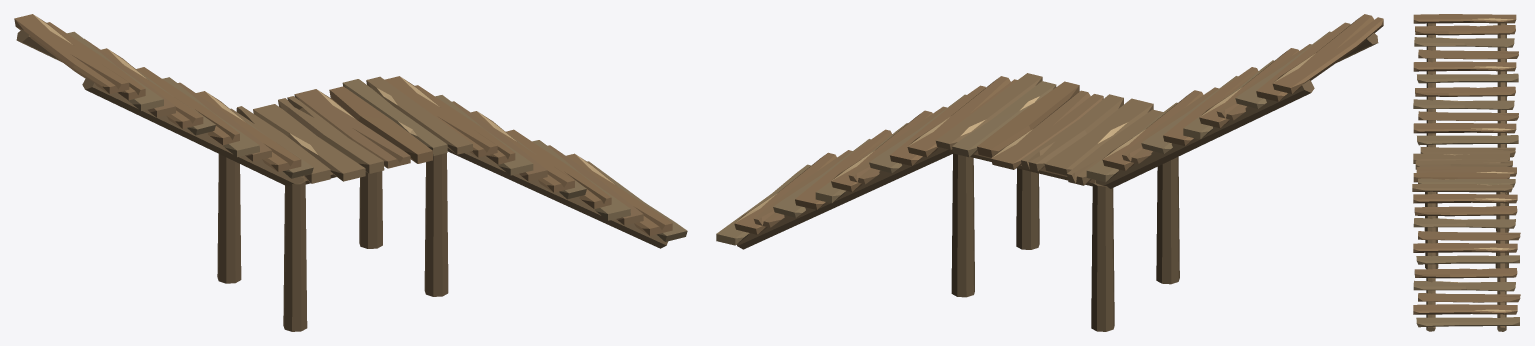
The model's file is rpgpp_ag_wall_platform_stairs_01c_4m.fbx.
3 views of the same model, side by side, from view 1: azimuth 30°, elevation 25°; view 2: azimuth 150°, elevation 25°; view 3: azimuth 270°, elevation 25° (orthographic). The views are drawn at different scales.
Parts seen in each view (by area): view 1: rpgpp_ag_wall_platform_stairs_01c_4m; view 2: rpgpp_ag_wall_platform_stairs_01c_4m; view 3: rpgpp_ag_wall_platform_stairs_01c_4m.
Part boxes in pixels (bbox=[...]): rpgpp_ag_wall_platform_stairs_01c_4m: bbox=[14, 14, 687, 331]; rpgpp_ag_wall_platform_stairs_01c_4m: bbox=[716, 14, 1383, 331]; rpgpp_ag_wall_platform_stairs_01c_4m: bbox=[1412, 14, 1520, 331].
Bounding box in the file's own units: 7.94 × 3.98 × 2.32.
